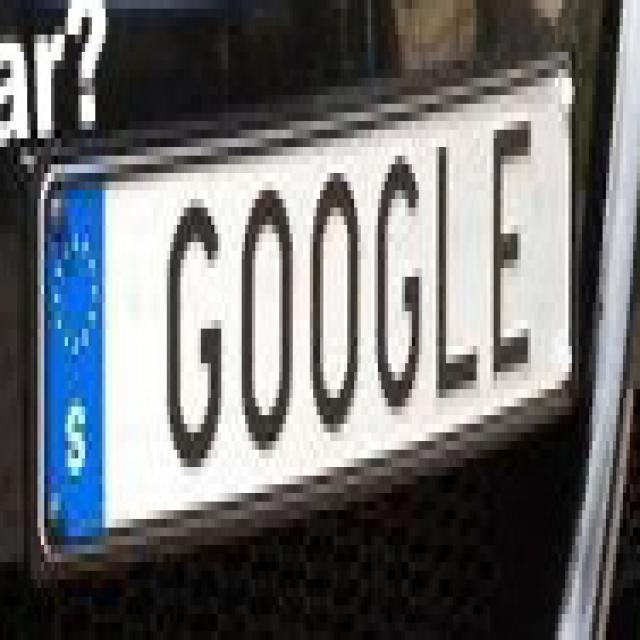0: (235, 175, 300, 469), (302, 170, 368, 448)
E: (486, 92, 542, 398)
G: (158, 173, 231, 494), (368, 144, 429, 433)
L: (426, 128, 482, 412)
